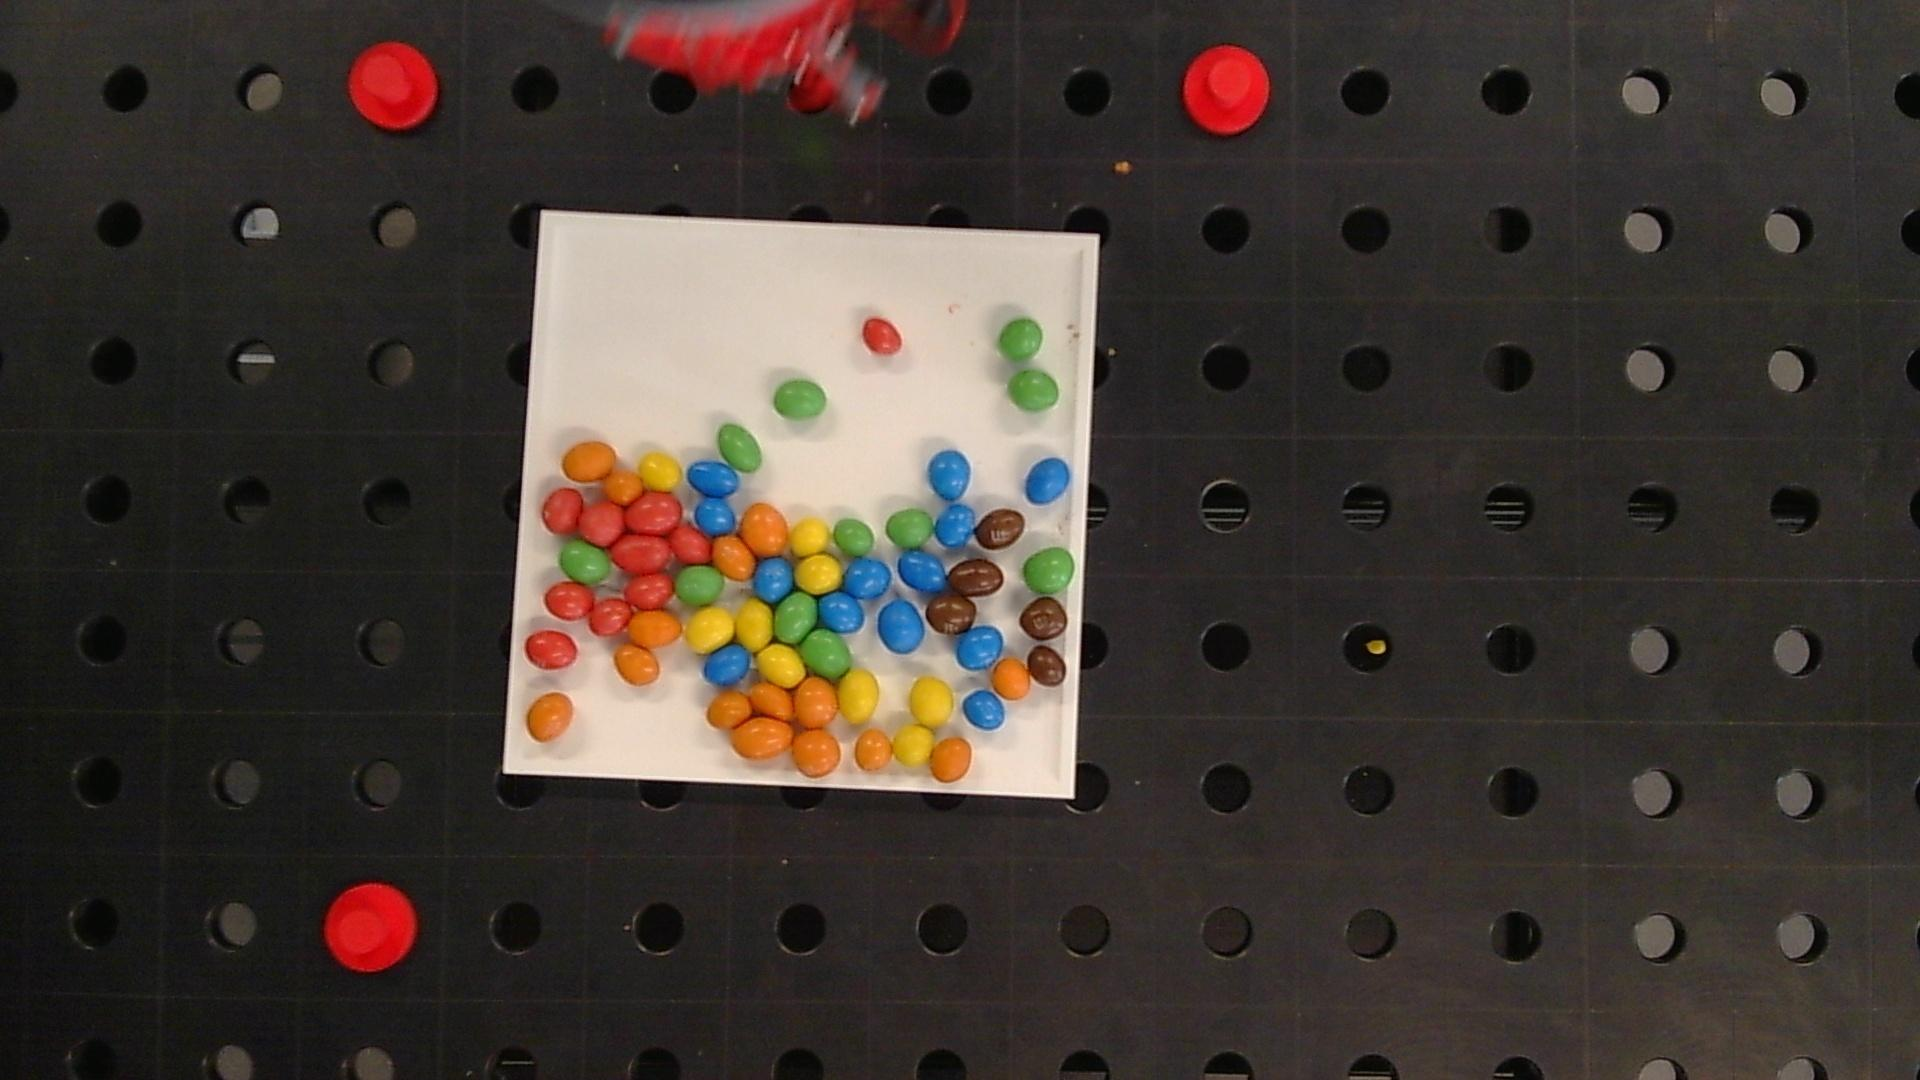blue: (878, 600, 924, 653), (928, 450, 971, 500), (956, 626, 1004, 670), (843, 556, 890, 599), (898, 551, 947, 592), (1026, 458, 1069, 502), (704, 645, 750, 686), (753, 556, 794, 601), (688, 460, 740, 496), (819, 592, 865, 632), (935, 504, 976, 547), (963, 691, 1006, 729), (695, 496, 736, 534)
brown: (947, 559, 1005, 596), (975, 509, 1025, 550), (1019, 597, 1067, 640), (927, 595, 976, 634), (1027, 645, 1067, 686)
green: (1023, 549, 1075, 593), (802, 630, 851, 676), (559, 541, 611, 584), (1007, 371, 1060, 411), (773, 380, 827, 419), (774, 592, 816, 642), (719, 425, 762, 471), (998, 319, 1044, 361), (886, 508, 934, 549), (675, 567, 724, 605), (833, 517, 874, 556)
orange: (732, 717, 794, 758), (741, 504, 787, 555), (791, 731, 841, 777), (527, 692, 574, 741), (794, 678, 837, 727), (562, 442, 617, 480), (628, 611, 682, 647), (931, 737, 972, 782), (713, 535, 754, 580), (615, 646, 659, 684), (707, 692, 752, 729), (855, 729, 893, 770), (750, 682, 793, 719), (993, 658, 1030, 699), (604, 471, 642, 502)
red: (611, 534, 671, 572), (628, 493, 680, 533), (526, 630, 578, 669), (580, 502, 624, 545), (545, 583, 593, 620), (542, 488, 582, 531), (625, 574, 674, 608), (589, 596, 632, 634), (862, 318, 902, 355), (670, 526, 711, 562)
yellow: (684, 607, 735, 653), (837, 670, 880, 724), (910, 676, 953, 727), (758, 645, 803, 686), (893, 724, 935, 766), (736, 600, 773, 647), (796, 555, 841, 592), (640, 452, 682, 489), (790, 517, 829, 555)
